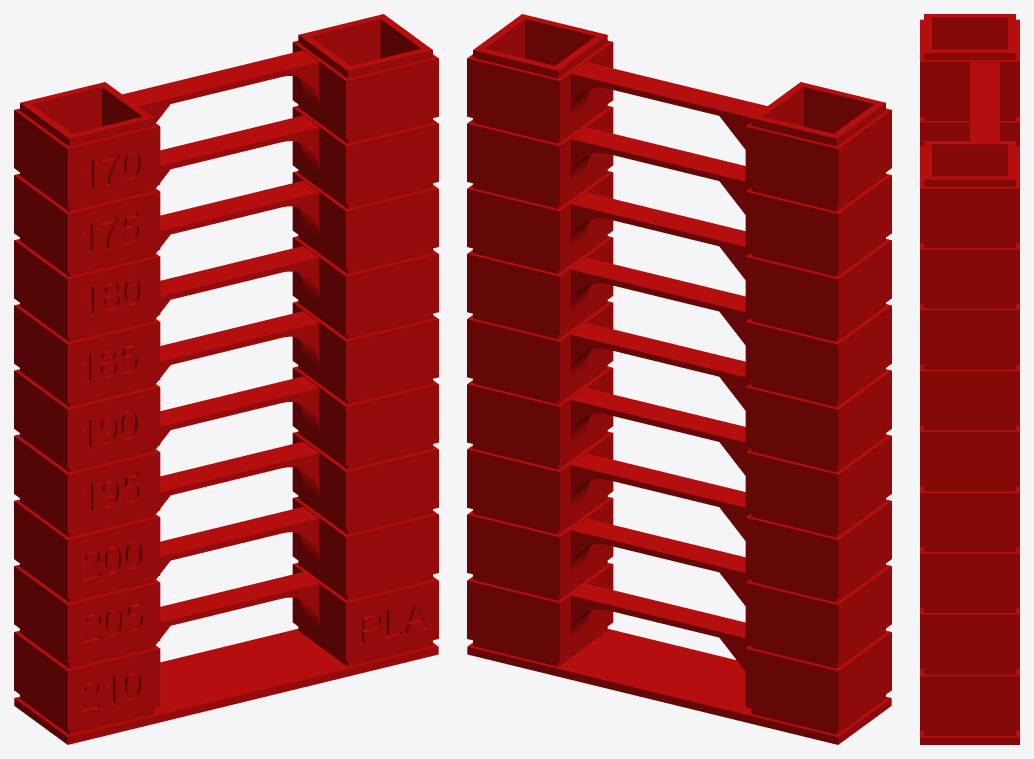
File: 170-210_PLA_Temp_Tower-52.glb
3 renders of one model, left to right at view 1: azimuth 30°, elevation 25°; view 2: azimuth 150°, elevation 25°; view 3: azimuth 270°, elevation 25°, orthographic. The views are drawn at different scales.
Bounding box in the file's own units: 40.03 × 62.2 × 10.
